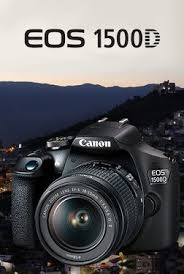camera: (11, 125, 172, 265)
